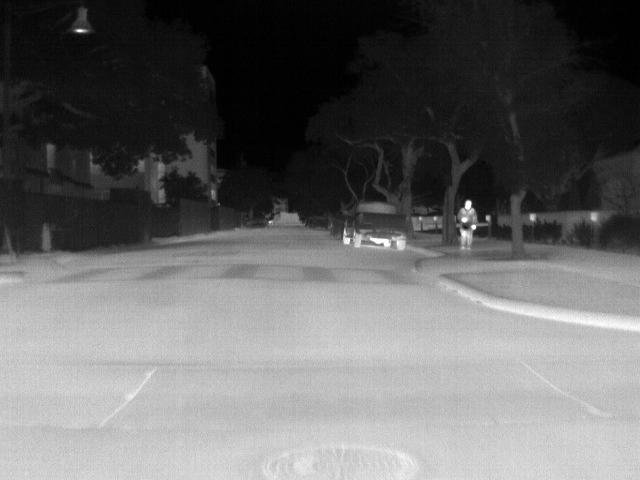car: (342, 200, 406, 251), (308, 214, 330, 230), (252, 216, 269, 228)
person: (456, 197, 478, 253)
